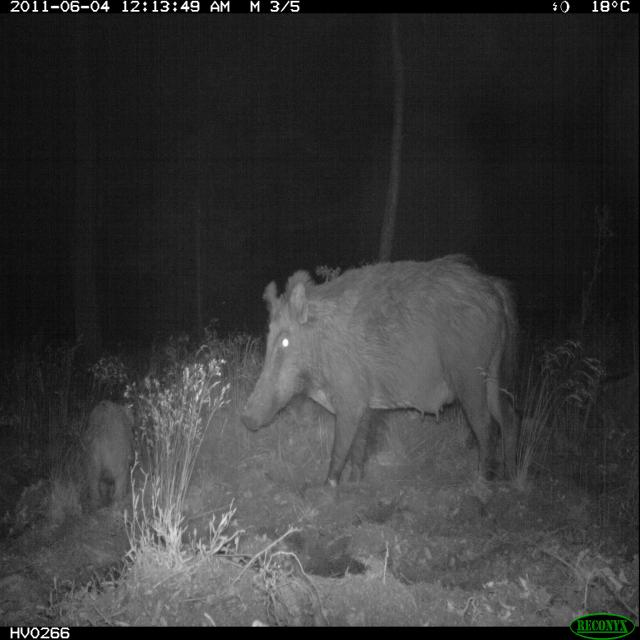boar: (202, 218, 590, 520), (61, 361, 151, 543)
